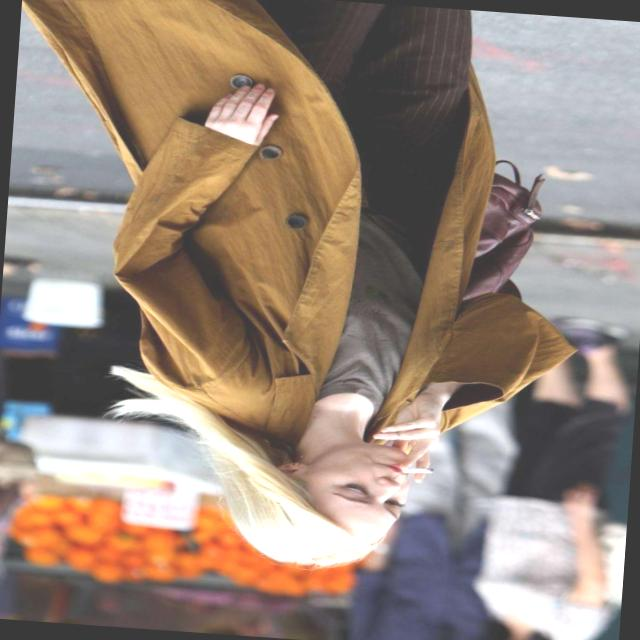cigarette: (382, 464, 449, 488)
